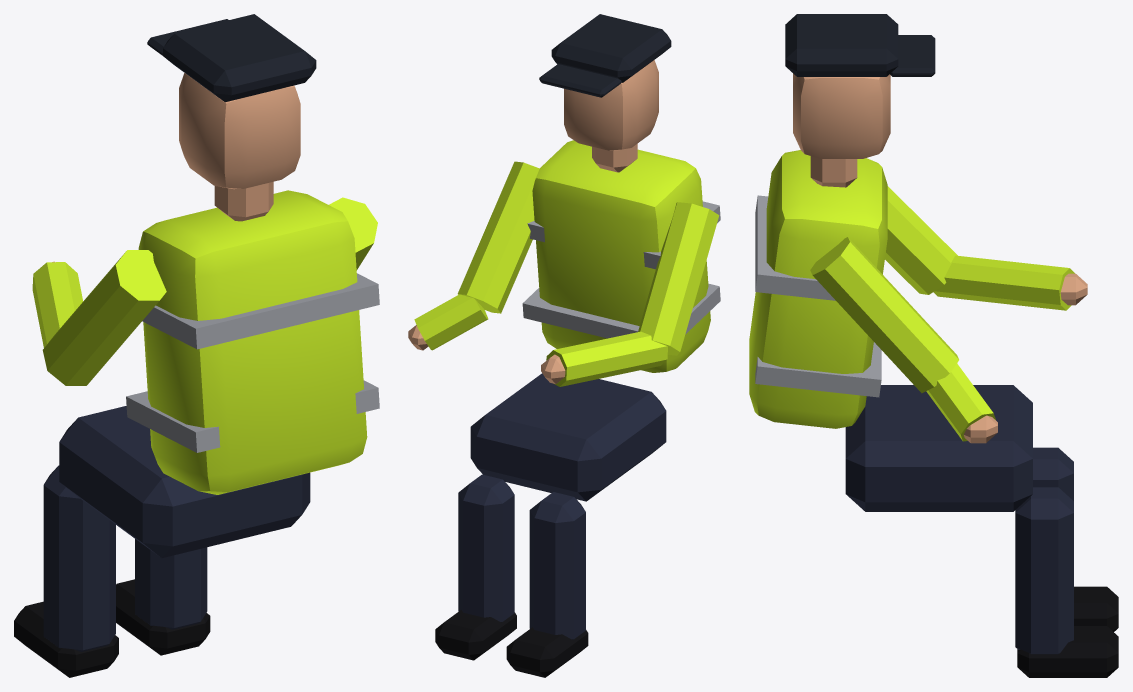
The model's file is operator.glb.
3 renders of one model, left to right at view 1: azimuth 30°, elevation 25°; view 2: azimuth 150°, elevation 25°; view 3: azimuth 270°, elevation 25°, orthographic. The views are drawn at different scales.
Parts seen in each view (by area): view 1: Operator; view 2: Operator; view 3: Operator.
Part boxes in pixels (box(x1,y1,x2,y2)): Operator: box(14, 14, 379, 677); Operator: box(408, 14, 720, 677); Operator: box(749, 14, 1118, 677).
Bounding box in the file's own units: 0.8386 × 1.75 × 0.9477.
